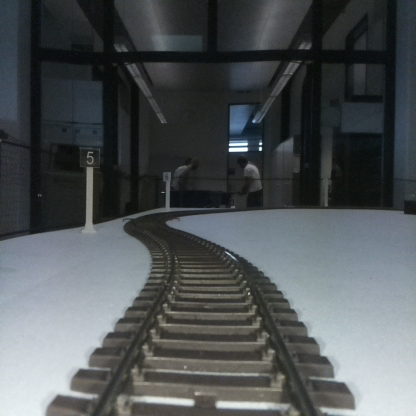black-info-5: (80, 148, 100, 230)
